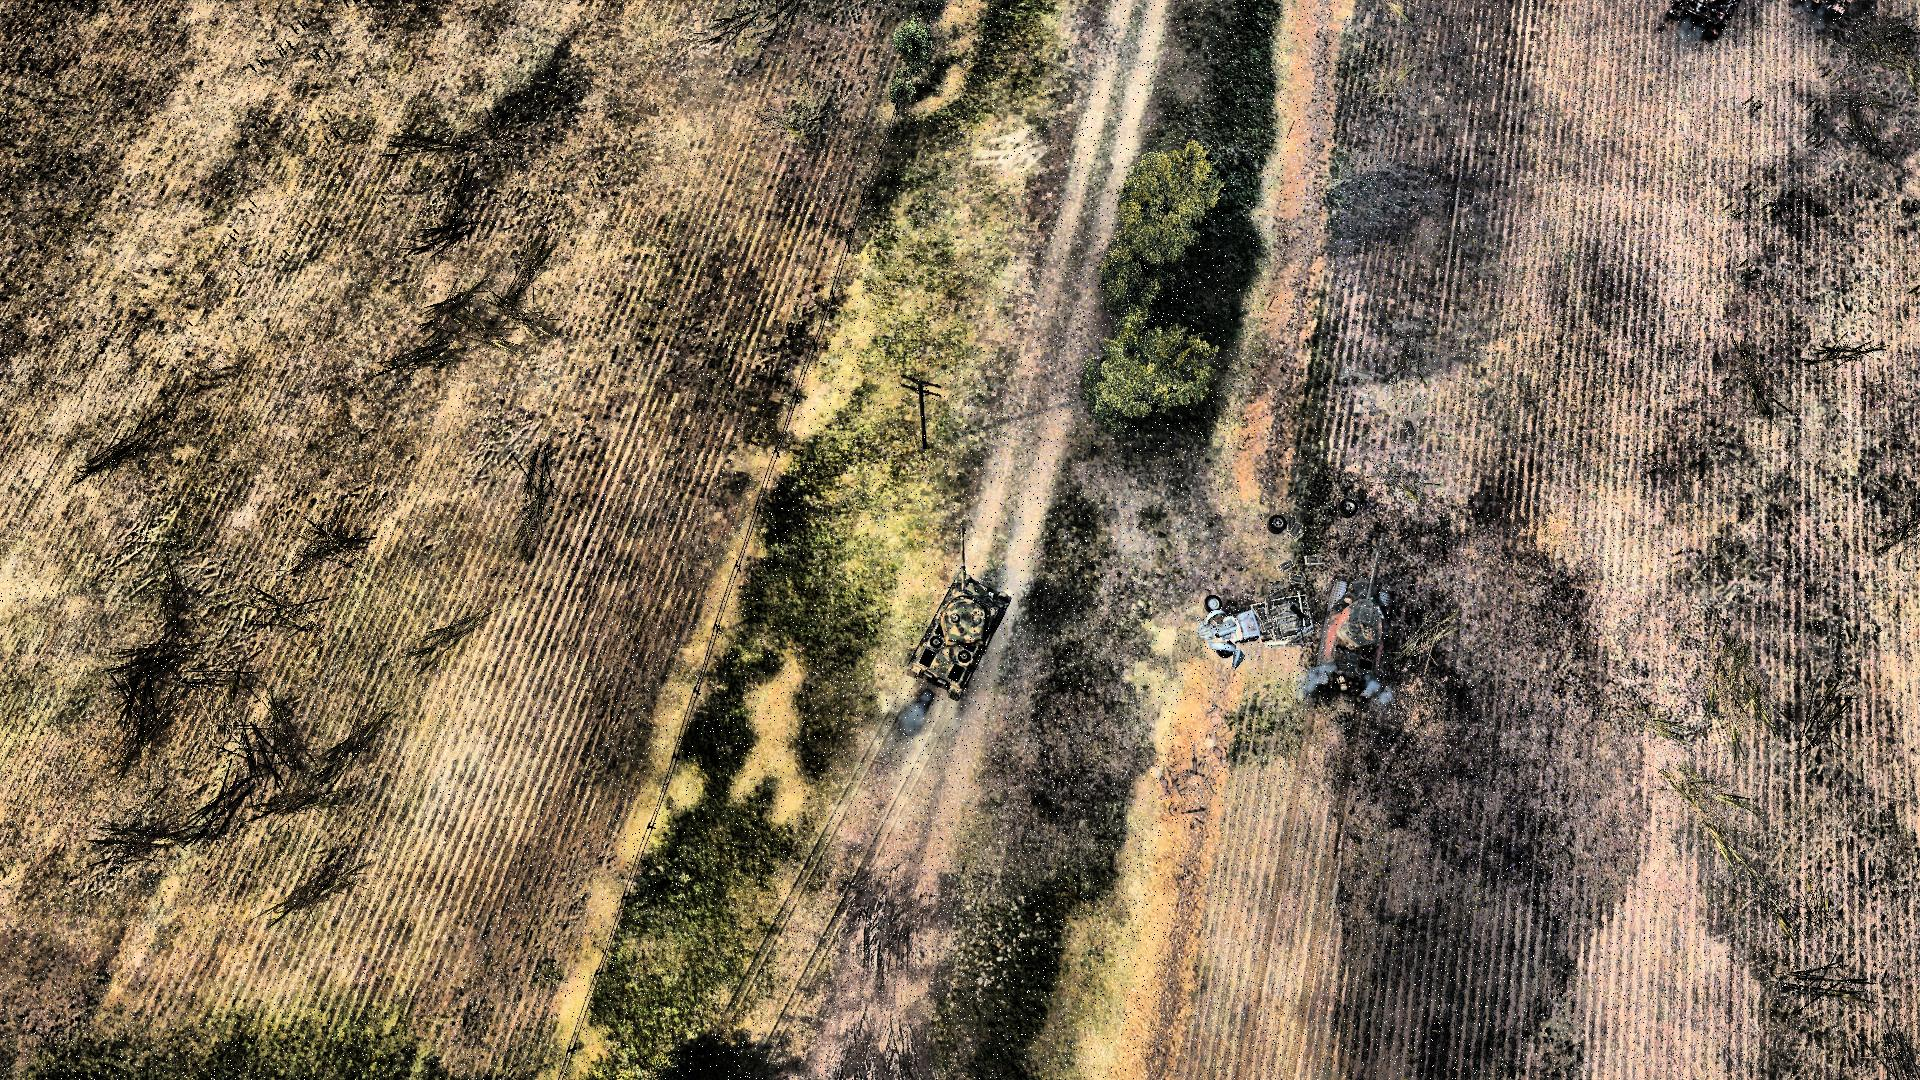military-vehicle: (907, 525, 1009, 696)
